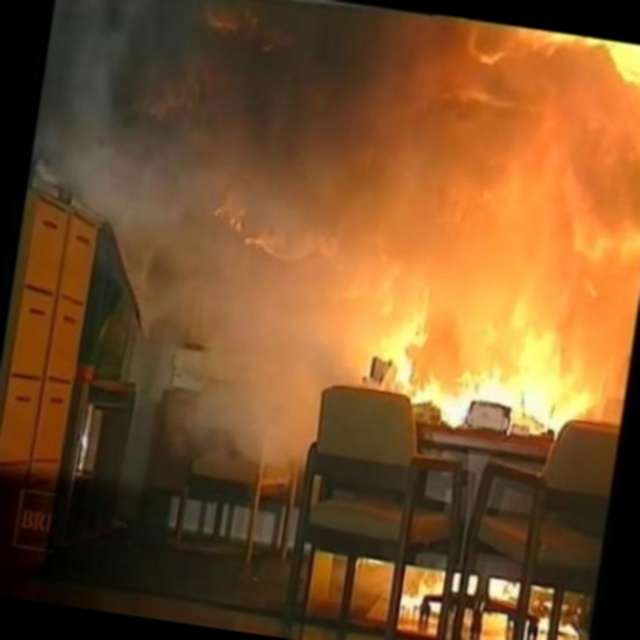fire: (328, 6, 640, 397)
smoke: (26, 0, 359, 257)
